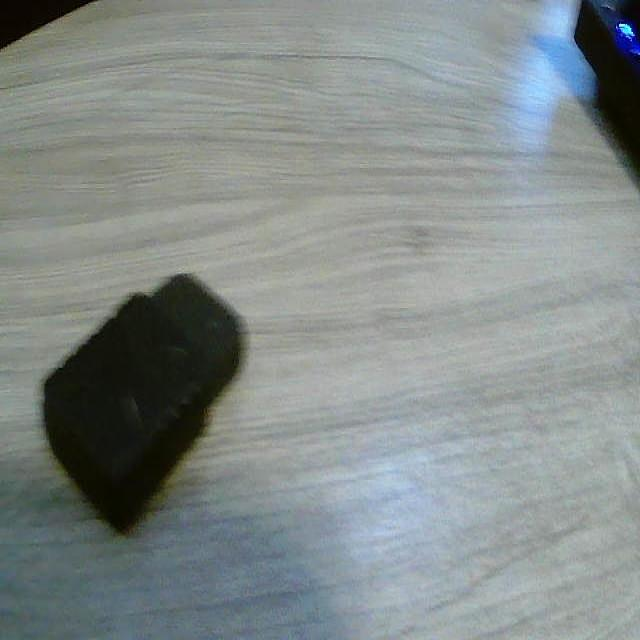borracha: (36, 263, 240, 525)
